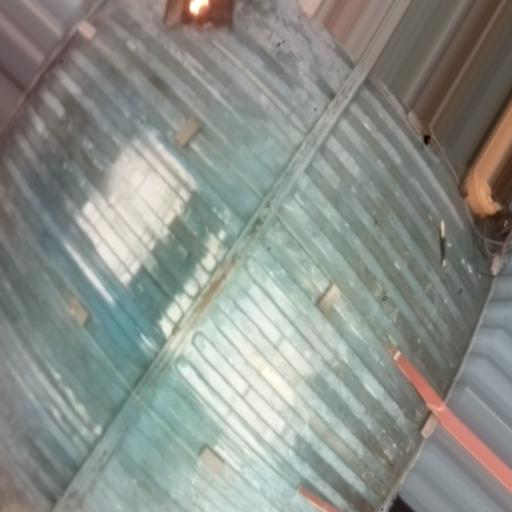Fire: (187, 1, 209, 13)
